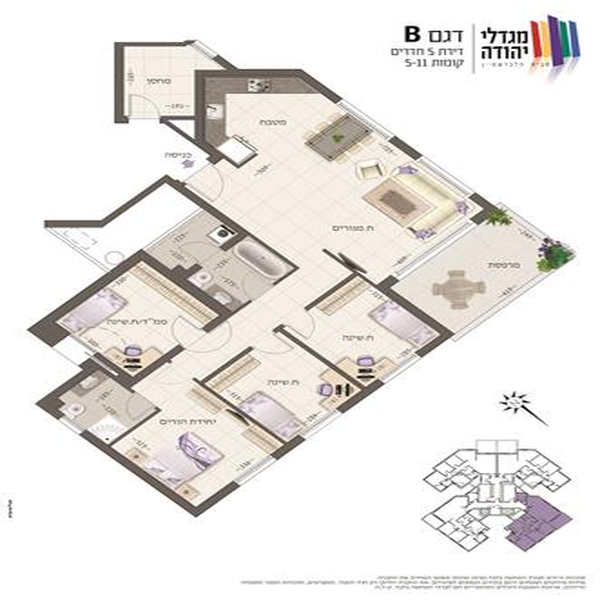door: (184, 158, 235, 204), (250, 329, 298, 368), (127, 92, 162, 126), (283, 305, 316, 341), (112, 394, 157, 420), (169, 314, 200, 349)
